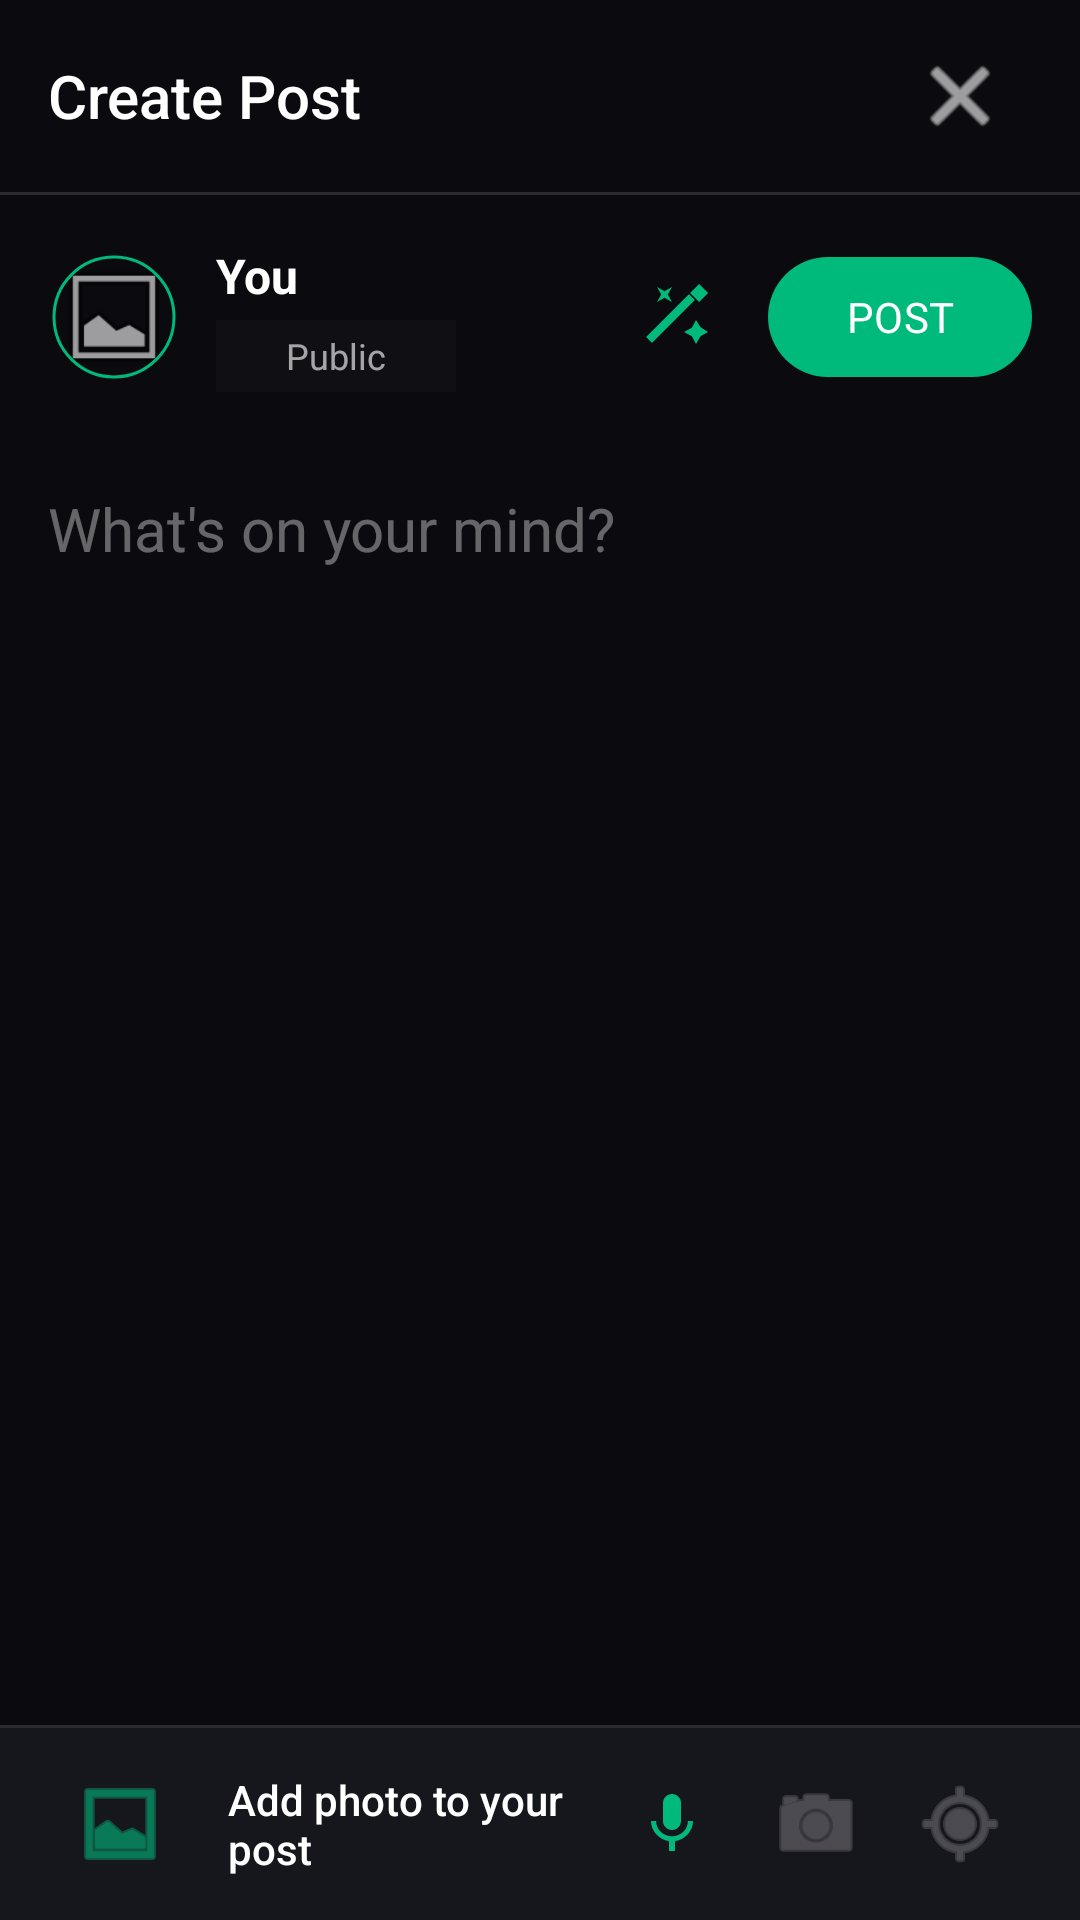

Where icons sit on this 1080 × 1920 app screen, as (x1, y1, x2, y2):
camera: (779, 1794, 853, 1851)
close clear cancel: (930, 66, 990, 126)
Dictate: (651, 1794, 693, 1851)
gallery: (52, 255, 176, 379), (84, 1788, 156, 1860)
Generate image with AI: (646, 284, 708, 344)
mylocation: (922, 1786, 998, 1862)
